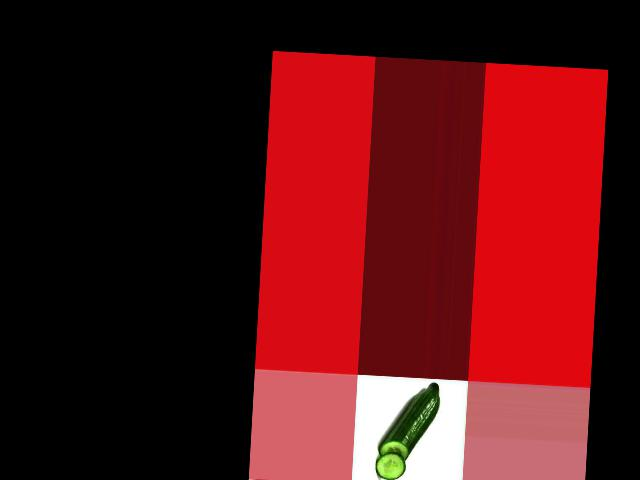cucumber: (377, 380, 440, 463)
